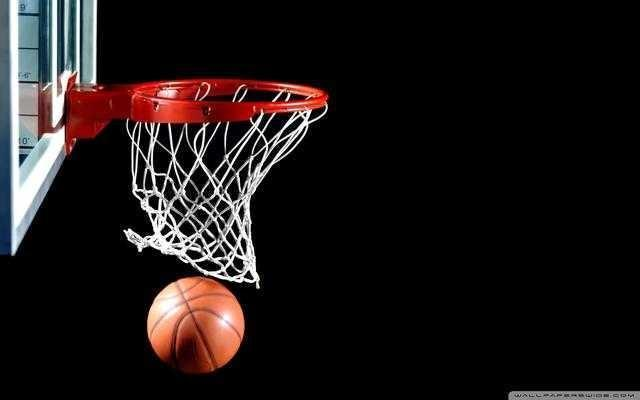ball: (143, 274, 247, 378)
rim: (115, 76, 336, 294)
